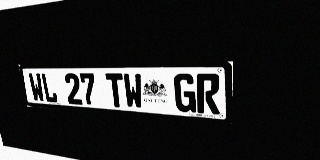2: (64, 73, 83, 105)
7: (78, 73, 98, 106)
G: (174, 73, 196, 113)
L: (40, 73, 58, 103)
R: (196, 74, 220, 114)
T: (105, 73, 125, 108)
W: (123, 73, 144, 109), (28, 73, 45, 102)
